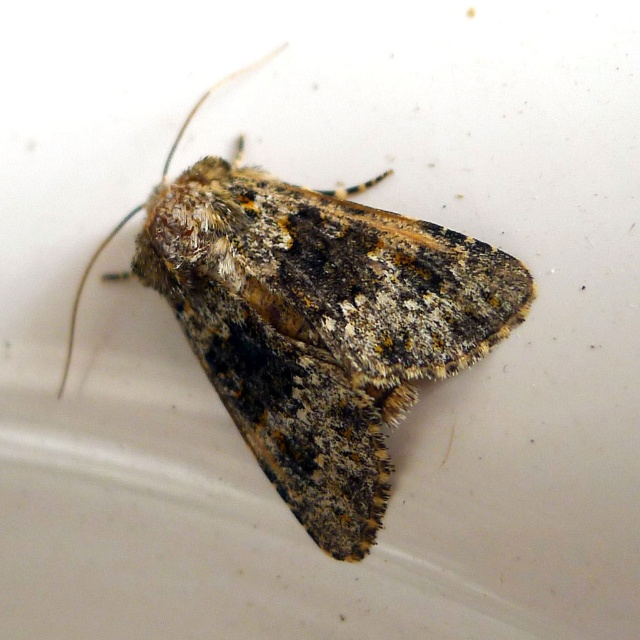Moths and butterflies: (54, 37, 535, 566)
